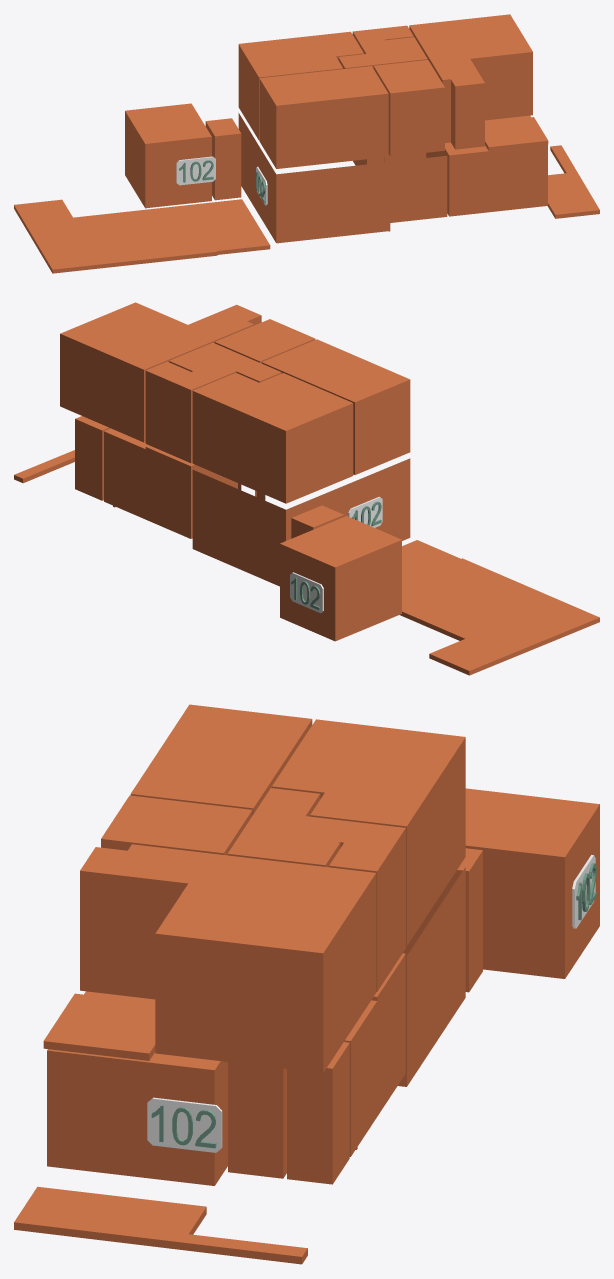
3 views of the same model, one above another, from view 1: azimuth 30°, elevation 25°; view 2: azimuth 150°, elevation 25°; view 3: azimuth 270°, elevation 25° (orthographic). The views are drawn at different scales.
Visible parts, largest first — view 1: g_1, g_14, g_7, g_11, g_5, g_0, g_9, g_6, g_4, g_13, g_8, g_12 (+3 smaller); view 2: g_6, g_14, g_11, g_1, g_5, g_7, g_2, g_10, g_9, g_8, g_3, g_4 (+3 smaller); view 3: g_11, g_6, g_5, g_0, g_2, g_7, g_13, g_1, g_3, g_9, g_10, g_8 (+3 smaller).
Part boxes in pixels (x1=…): g_1: x1=238, y1=113, x2=447, y2=243; g_14: x1=14, y1=199, x2=270, y2=273; g_7: x1=259, y1=66, x2=388, y2=168; g_11: x1=409, y1=14, x2=532, y2=149; g_5: x1=125, y1=103, x2=211, y2=208; g_0: x1=426, y1=115, x2=547, y2=216; g_9: x1=373, y1=60, x2=444, y2=156; g_6: x1=238, y1=31, x2=363, y2=140; g_4: x1=205, y1=118, x2=241, y2=200; g_13: x1=547, y1=145, x2=599, y2=218; g_8: x1=338, y1=37, x2=427, y2=68; g_12: x1=485, y1=117, x2=548, y2=150; g_6: x1=192, y1=373, x2=353, y2=503; g_14: x1=400, y1=540, x2=599, y2=675; g_11: x1=60, y1=302, x2=261, y2=442; g_1: x1=192, y1=458, x2=410, y2=586; g_5: x1=280, y1=516, x2=401, y2=641; g_7: x1=261, y1=339, x2=410, y2=474; g_2: x1=104, y1=428, x2=237, y2=538; g_10: x1=145, y1=361, x2=215, y2=463; g_9: x1=214, y1=319, x2=315, y2=363; g_8: x1=169, y1=343, x2=281, y2=382; g_3: x1=75, y1=416, x2=110, y2=500; g_4: x1=291, y1=505, x2=343, y2=538; g_11: x1=80, y1=844, x2=376, y2=1072; g_6: x1=272, y1=719, x2=465, y2=946; g_5: x1=465, y1=788, x2=599, y2=978; g_0: x1=47, y1=991, x2=227, y2=1185; g_2: x1=228, y1=953, x2=405, y2=1178; g_7: x1=130, y1=704, x2=312, y2=815; g_13: x1=14, y1=1186, x2=307, y2=1264; g_1: x1=398, y1=867, x2=465, y2=1086; g_3: x1=287, y1=1042, x2=349, y2=1184; g_9: x1=101, y1=795, x2=252, y2=855; g_10: x1=329, y1=821, x2=405, y2=991; g_8: x1=227, y1=788, x2=350, y2=867.
Bounding box in the file's own units: 20.08 × 5.35 × 10.56.
